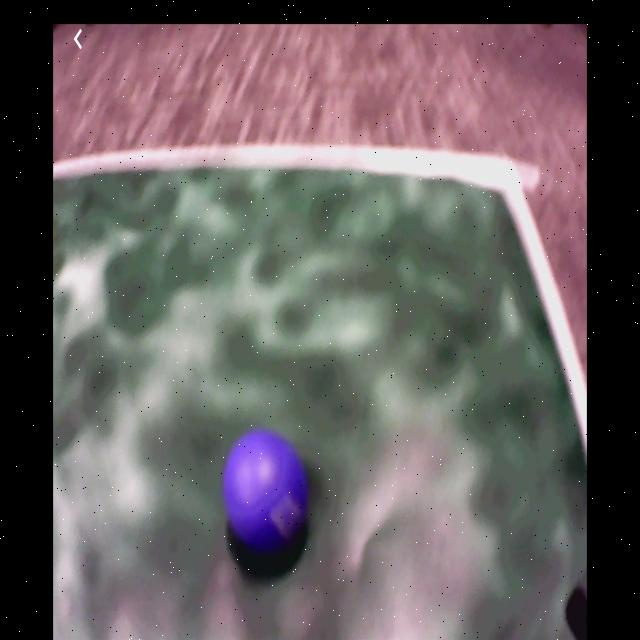ball: (225, 432, 310, 551)
